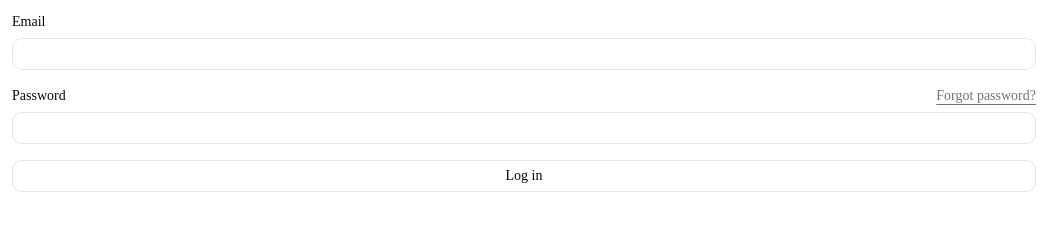
Test case: LoginForm › displays a generic error message returned by the action
The width and height of the screenshot is (1048, 245).
Type "person@example.com" into the field labelled "Email". click: (524,54)
box: [12,38,1036,70]
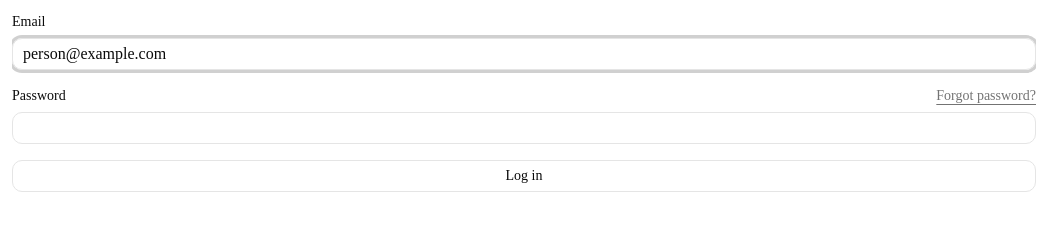
Type "wrongpassword" into the password field labelled "Password". click: (524,128)
box: [12,112,1036,144]
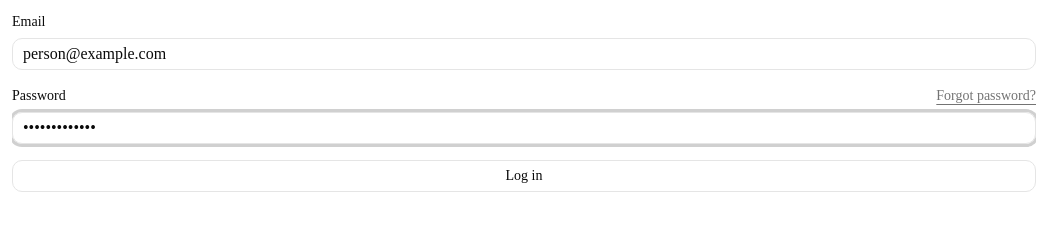
Click the button "Log in". click: (524,176)
box: [12,160,1036,192]
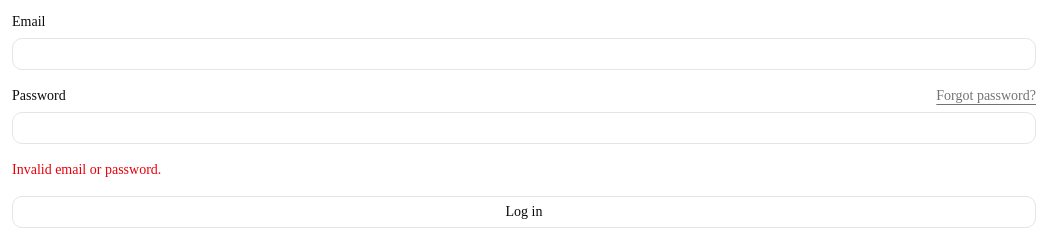
Check: the message reads "Invalid email or password.", box [12,162,161,177]
